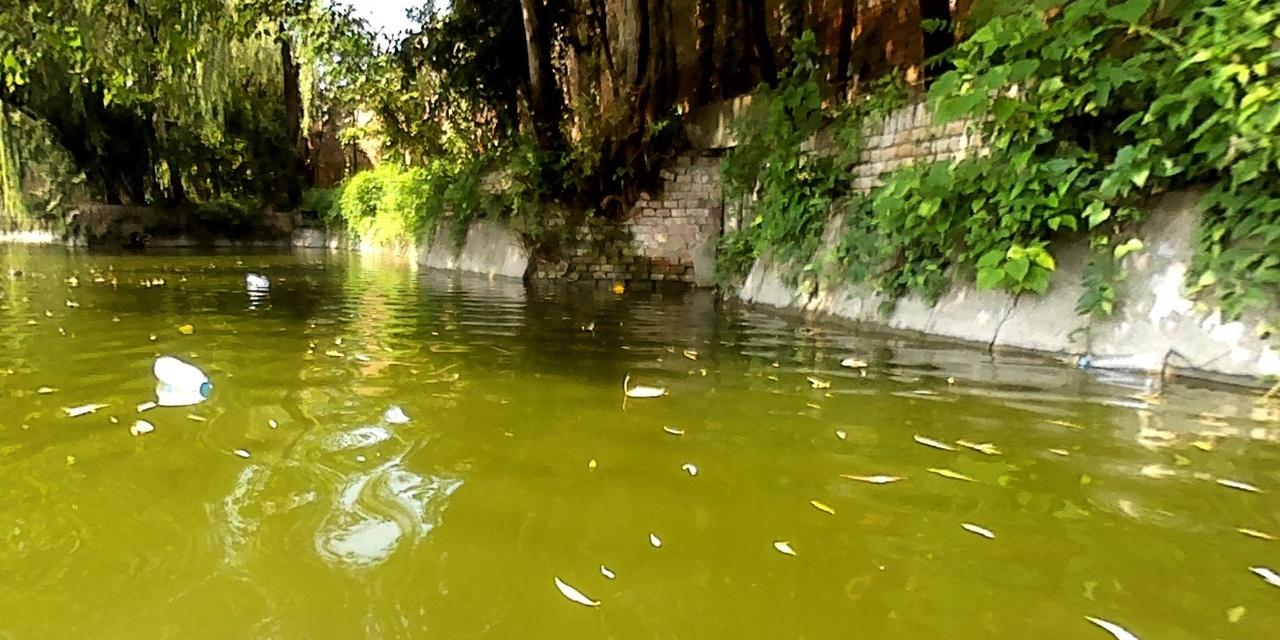bottle: (1078, 351, 1163, 386), (151, 353, 212, 394), (243, 273, 266, 286)
